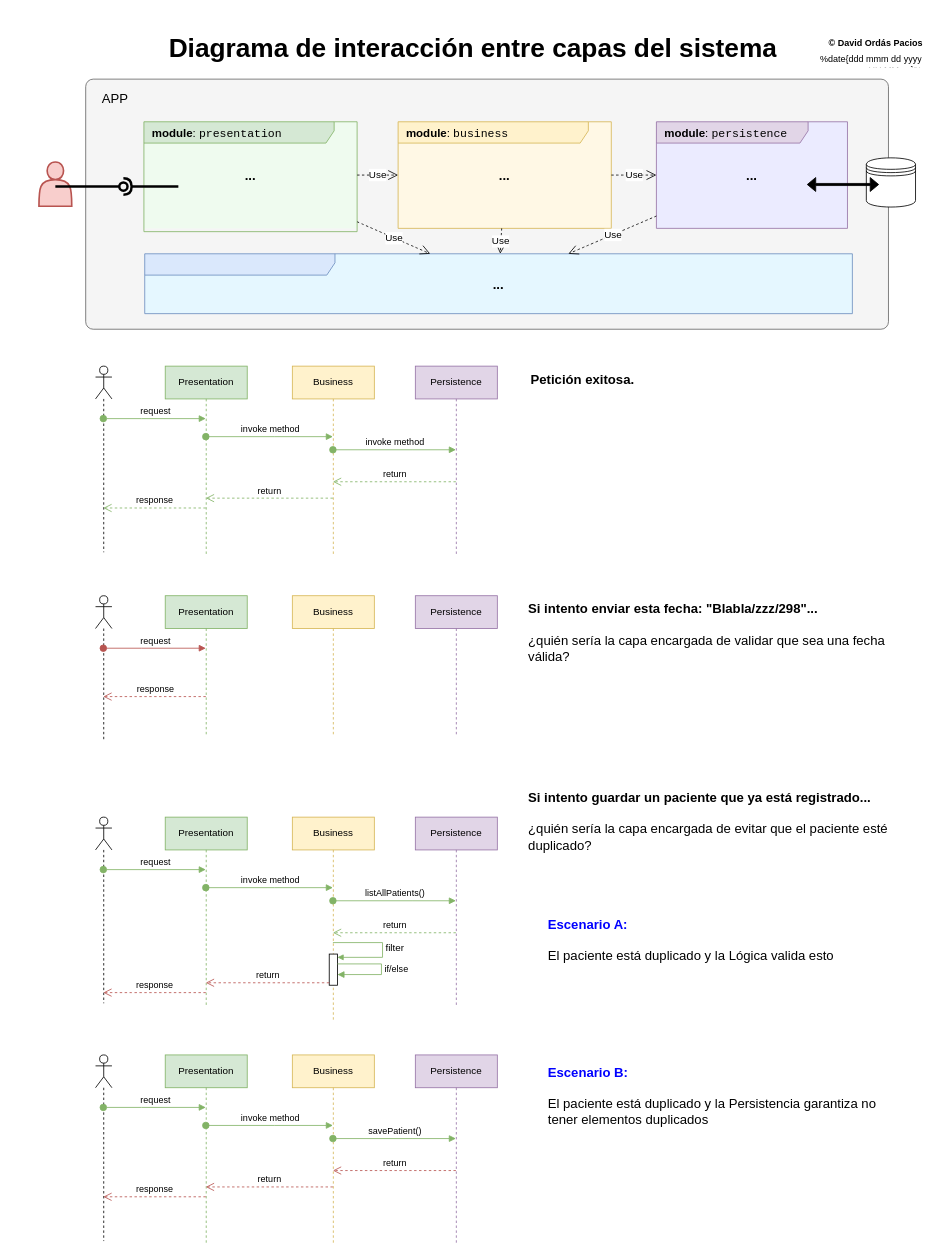
This 945x1258 diagram has some shape labels left out. The shapes that lost their labels are listed below. From the top down, each one's centre as x and y in pixels, then its label:
At point (891, 182): "RDBMS".
At point (498, 283): "module : model".
